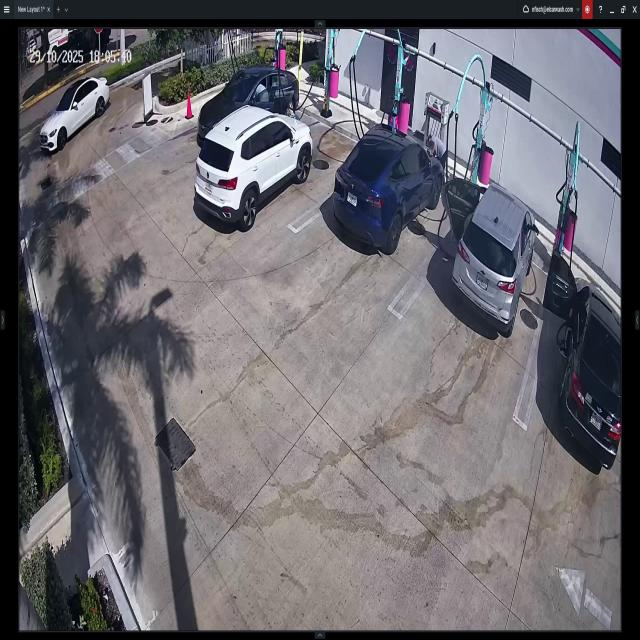Car: (544, 253, 622, 466), (445, 177, 535, 333), (332, 126, 441, 252), (200, 110, 312, 229), (198, 68, 300, 140), (40, 80, 110, 152)
